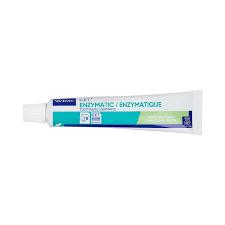toothpaste: (15, 88, 207, 144)
